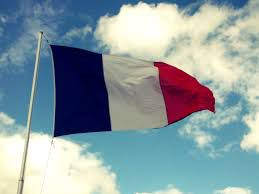French Flag: (52, 44, 215, 138)
